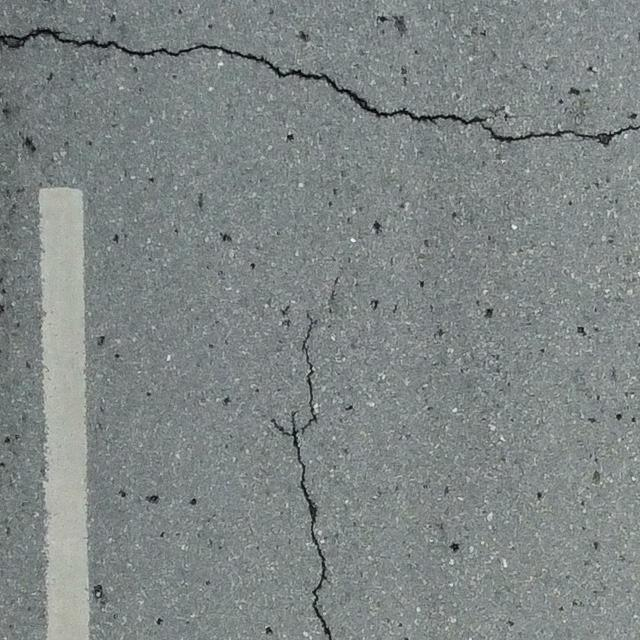LongitudinalCrack: (270, 313, 332, 640)
TransverseCrack: (1, 28, 640, 150)
